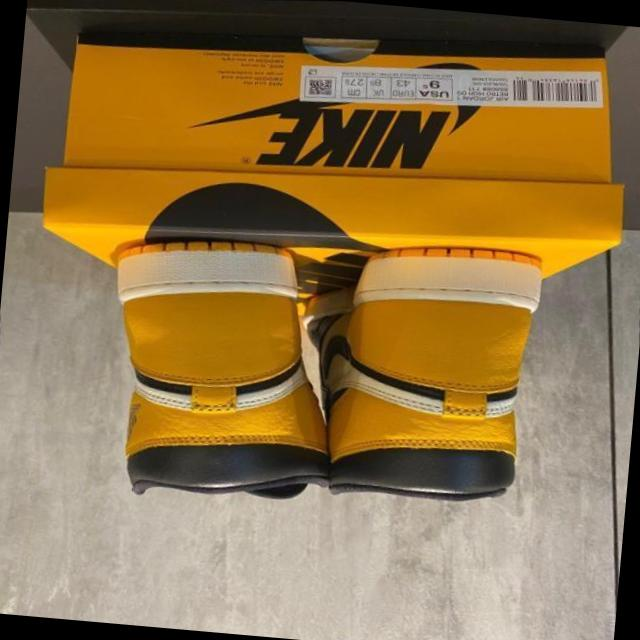nike_original_jordan: (273, 224, 568, 518), (90, 219, 345, 512)
